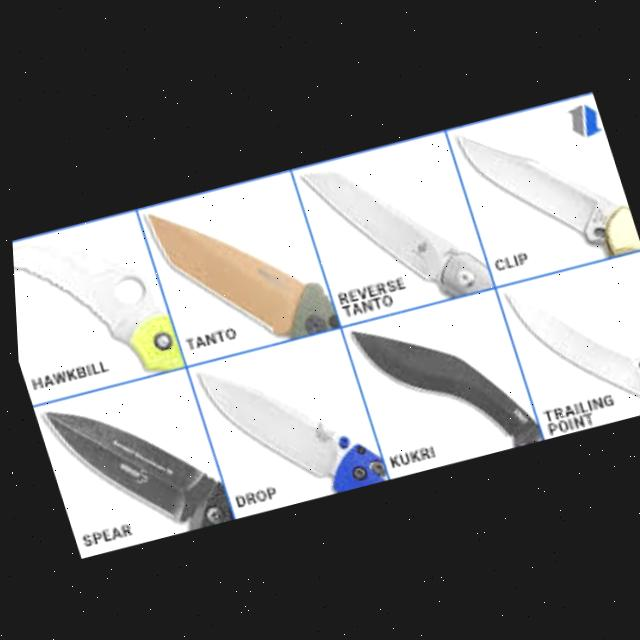knife: (139, 173, 337, 365), (294, 133, 489, 325), (342, 290, 539, 478), (447, 94, 640, 285), (189, 330, 384, 517), (35, 372, 227, 557), (9, 213, 181, 405), (497, 251, 640, 436)
